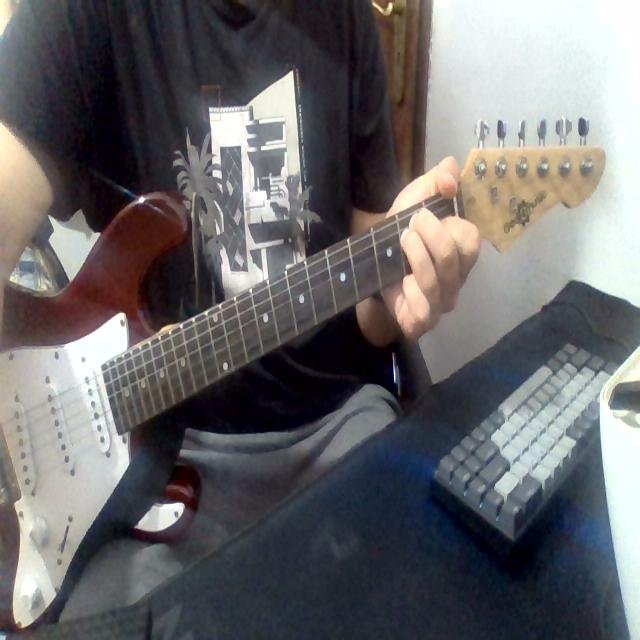E: (374, 162, 483, 302)
